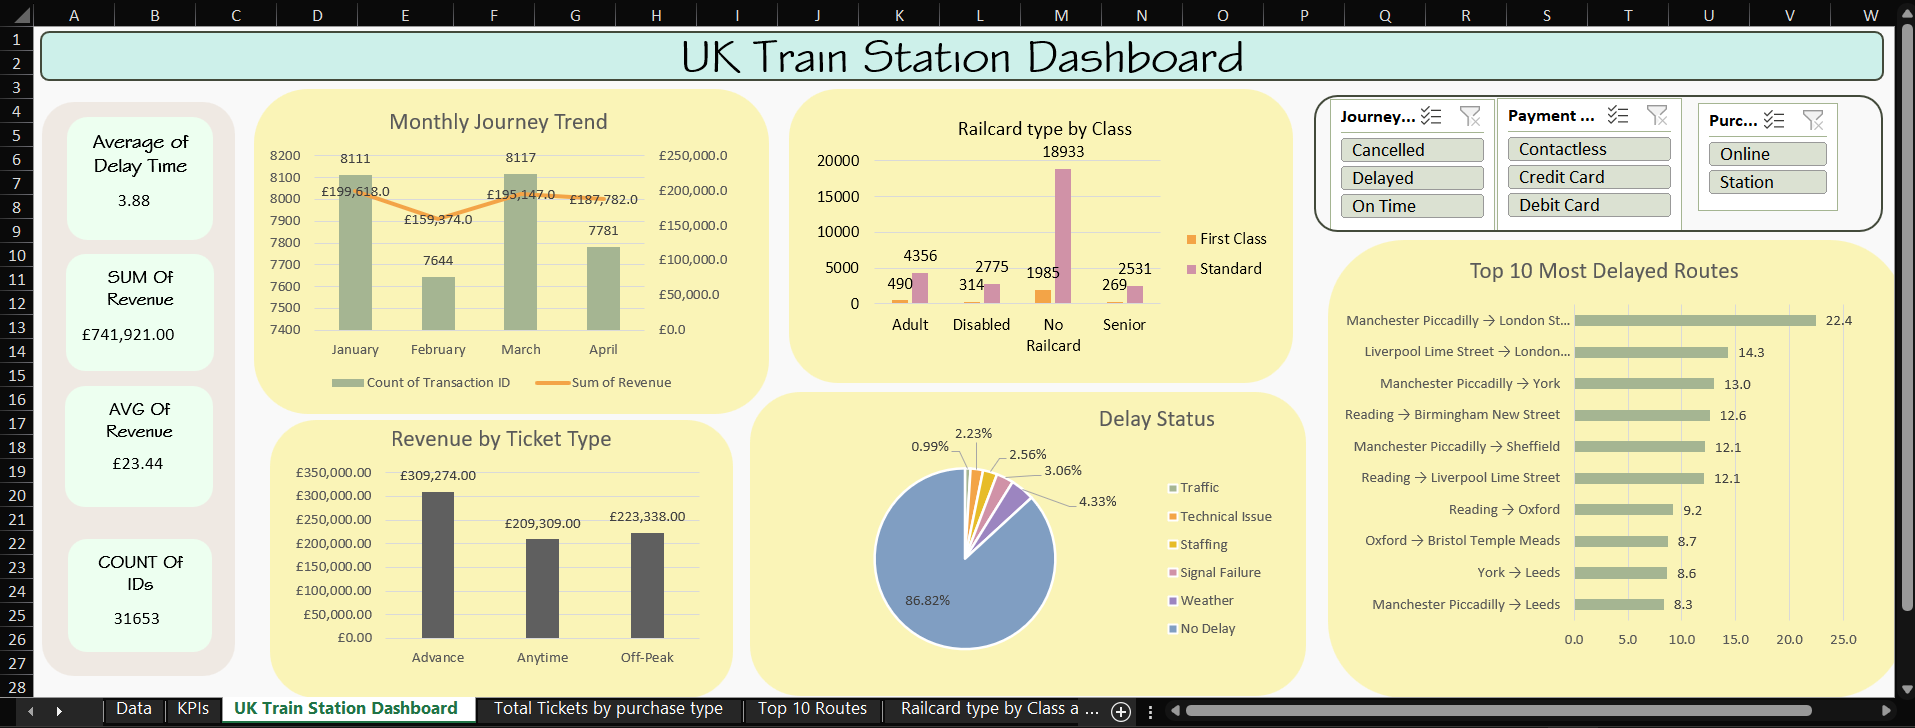

Layout of this report page (visuals, bound fields, positions):
{"tool":"powerbi","page":{"name":"Overview ","canvas":[1280,720],"ordinal":1},"visuals":[{"type":"textbox","box":[51.5,156.3,93.8,35],"z":0,"group":"g1"},{"type":"textbox","box":[48.7,201.5,115,40],"z":0,"group":"g2"},{"type":"lineChart","title":"Monthly Journey Trend","fields":{"Y":["Measures (2).Total Revenue"],"Category":["DimDate.Month"]},"box":[182.2,453,526.1,239.7],"z":0},{"type":"cardVisual","fields":{"Data":["Measures (2).#Transaction_ID","Measures (2).AVG Delay Time","Measures (2).Net.Revenue","Measures (2).AVG Ticket Price"]},"box":[181.9,82.1,1074.6,93.5],"z":1000},{"type":"actionButton","box":[52.3,156.3,100,39.4],"z":1000,"group":"g1"},{"type":"actionButton","box":[51.5,192.7,100,39.4],"z":1000,"group":"g2"},{"type":"slicer","fields":{"Values":["Dim Ticket_Class.Ticket_Class"]},"box":[2,263,170,62.5],"z":2000},{"type":"slicer","fields":{"Values":["Dim Purchase_Type.Purchase_Type"]},"box":[2,414.3,170,62.5],"z":3000},{"type":"slicer","fields":{"Values":["Dim Railcard.Railcard"]},"box":[2,491.8,170,58.8],"z":4000},{"type":"slicer","fields":{"Values":["Dim Journey_Status.Journey_Status"]},"box":[2,340.5,170,58.8],"z":5000},{"type":"textbox","box":[50.7,112.7,88.7,40.8],"z":6000},{"type":"group","id":"g1","title":"Group 1","box":[51.5,156.3,101.4,39.4],"z":7000},{"type":"group","id":"g2","title":"Group 2","box":[48.7,192.7,115,48.8],"z":8000},{"type":"actionButton","box":[10.7,636.9,145.2,47.6],"z":9000},{"type":"textbox","box":[171.8,2.8,418.3,49.3],"z":10000},{"type":"textbox","box":[171.8,29.6,252.1,36.6],"z":11000},{"type":"slicer","fields":{"Values":["Dim Ticket_Type.Ticket_Type"]},"box":[3.2,565.5,167.5,57.5],"z":12000},{"type":"barChart","title":"Transactions by Railcard","fields":{"Category":["Dim Railcard.Railcard"],"Y":["Measures (2).#Transaction_ID"]},"box":[182.2,193,526.1,243.3],"z":13000},{"type":"donutChart","title":"Transactions by Payment Method ","fields":{"Category":["Dim Payment_Method.Payment_Method"],"Y":["Measures (2).#Transaction_ID"]},"box":[720.3,195.4,535.7,240.9],"z":14000},{"type":"barChart","title":"Top 5 Crowded Routes","fields":{"Category":["Dim Route.Route"],"Y":["Measures (2).#Transaction_ID"]},"box":[720.2,453.1,536.3,238],"z":15000},{"type":"cardVisual","fields":{"Data":["Measures (2).Total Revenue"]},"box":[851.2,282.7,182.9,84.2],"z":16000},{"type":"advancedSlicerVisual","fields":{"Values":["Revenue/ Transaction.Revenue/ Transaction"]},"box":[529.7,459,170.2,36],"z":17000},{"type":"advancedSlicerVisual","fields":{"Values":["DimDate.Month"]},"box":[828.2,11.3,428.2,40.8],"z":18000}]}

Visuals, with their boxes on the page's 1280x720 design canvas (x1, y1, x2, y2). These are canvas units, not pixel positions in the 1915x728 screenshot, which may show the page scaled, cropped or inside an application window:
textbox: 52:156:145:191
textbox: 49:202:164:242
"Monthly Journey Trend" lineChart: 182:453:708:693
cardVisual - Measures (2).#Transaction_ID x Measures (2).AVG Delay Time: 182:82:1256:176
actionButton: 52:156:152:196
actionButton: 52:193:152:232
slicer - Dim Ticket_Class.Ticket_Class: 2:263:172:326
slicer - Dim Purchase_Type.Purchase_Type: 2:414:172:477
slicer - Dim Railcard.Railcard: 2:492:172:551
slicer - Dim Journey_Status.Journey_Status: 2:340:172:399
textbox: 51:113:139:154
"Group 1" group: 52:156:153:196
"Group 2" group: 49:193:164:242
actionButton: 11:637:156:684
textbox: 172:3:590:52
textbox: 172:30:424:66
slicer - Dim Ticket_Type.Ticket_Type: 3:566:171:623
"Transactions by Railcard" barChart: 182:193:708:436
"Transactions by Payment Method " donutChart: 720:195:1256:436
"Top 5 Crowded Routes" barChart: 720:453:1256:691
cardVisual - Measures (2).Total Revenue: 851:283:1034:367
advancedSlicerVisual - Revenue/ Transaction.Revenue/ Transaction: 530:459:700:495
advancedSlicerVisual - DimDate.Month: 828:11:1256:52
